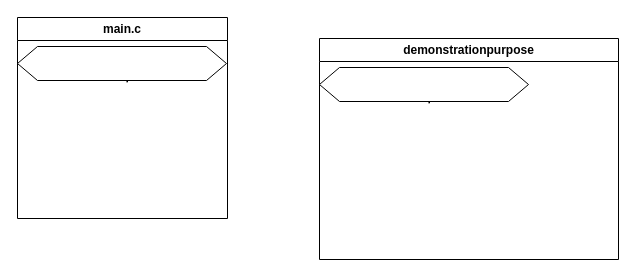
The diagram is 636 pixels wide and 277 high, and some of its shapes have lost their labels. The shapes that lost their labels are listed below. From the top down, each one's centre as x and y in pixels, then its label:
At point (121, 63): "main();".
At point (423, 84): "foo()".
